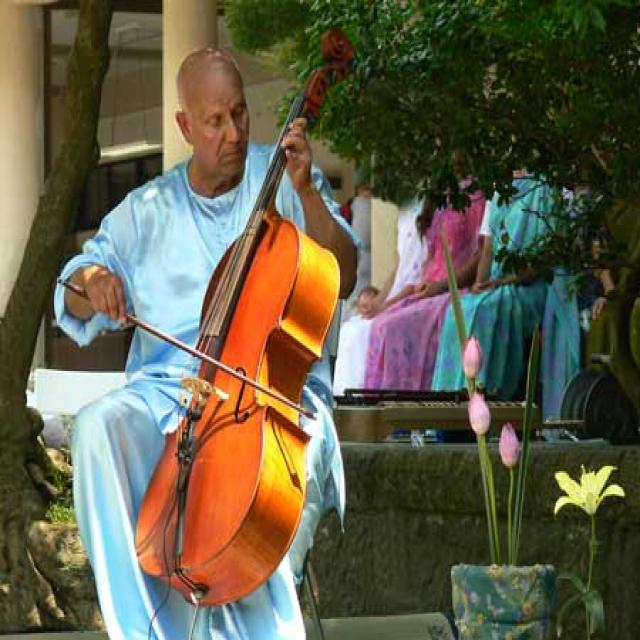cello: (137, 30, 356, 604)
